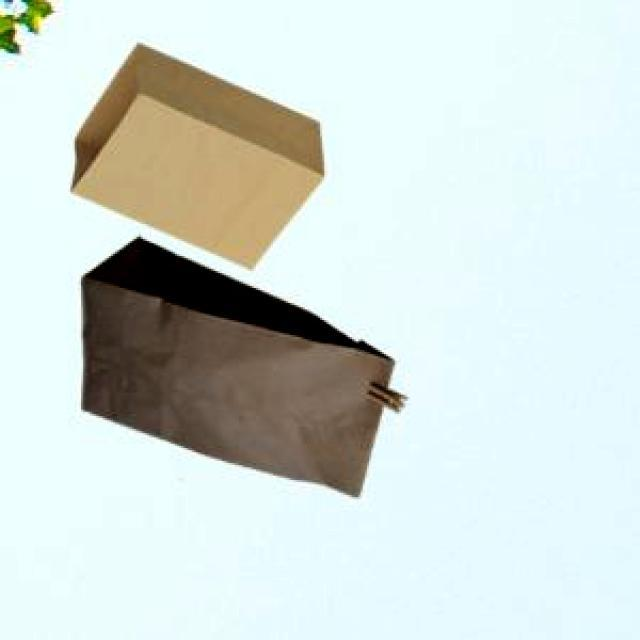Paper_Bag: (78, 233, 404, 494), (67, 42, 321, 266)
